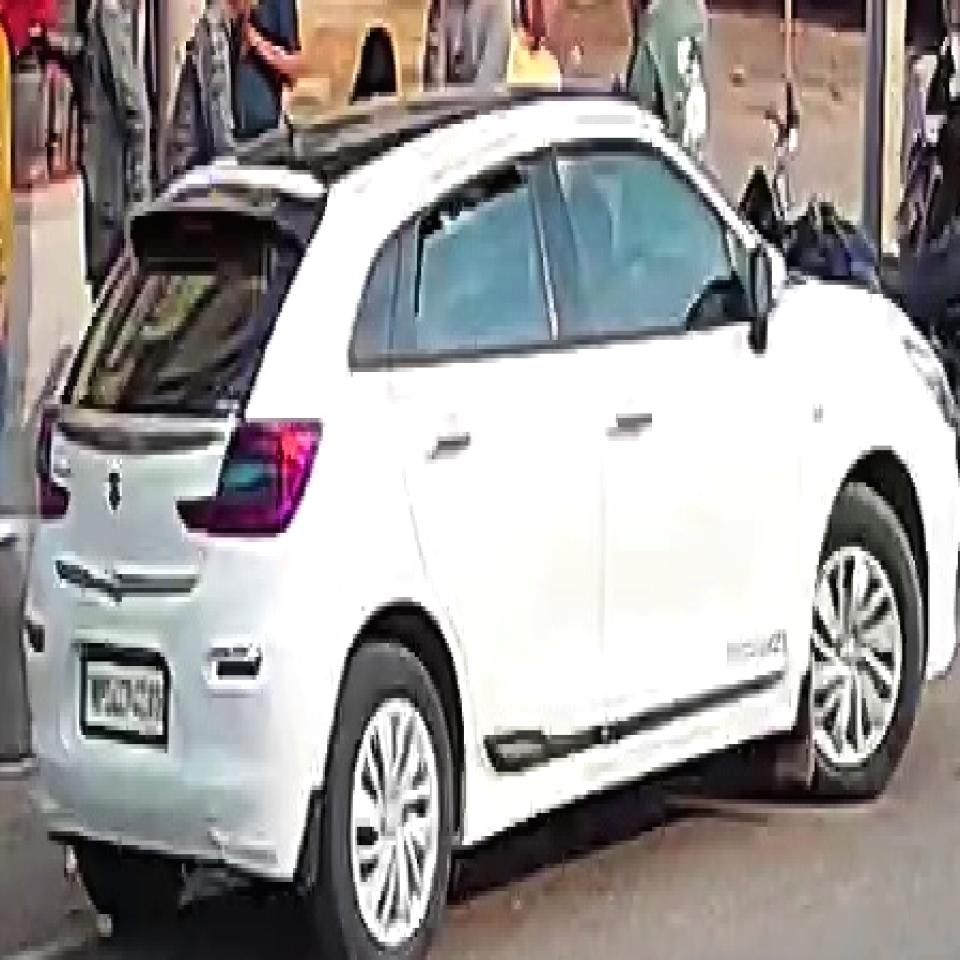tail_light: (207, 416, 327, 539)
